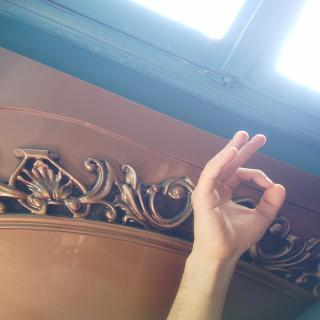Space: (184, 123, 284, 258)
